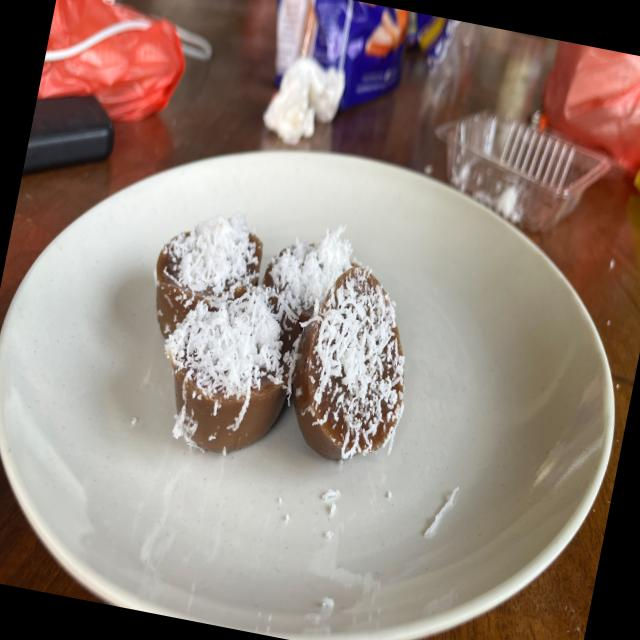Kuih lompang: (293, 266, 404, 460), (165, 287, 286, 452), (155, 211, 263, 336), (264, 225, 353, 356)
